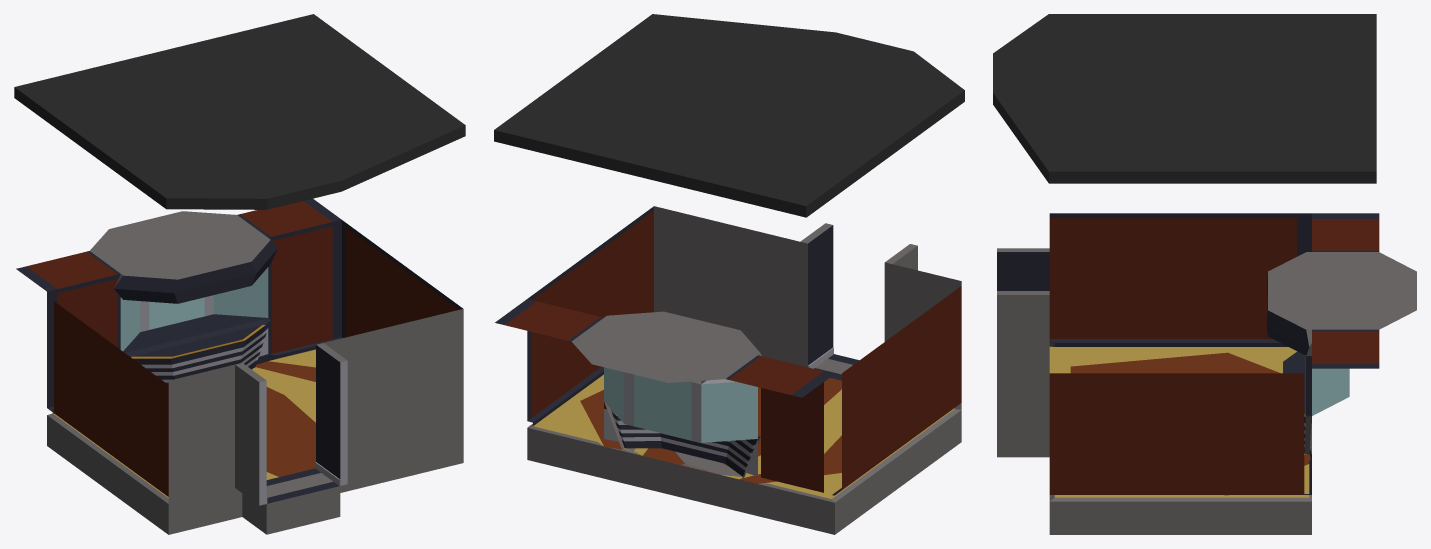
Rendered from lobbyAndLobbyCeiling.fbx.
3 renders of one model, left to right at view 1: azimuth 30°, elevation 25°; view 2: azimuth 150°, elevation 25°; view 3: azimuth 270°, elevation 25°, orthographic. The views are drawn at different scales.
Parts seen in each view (by area): view 1: lobby, lobbyCeiling; view 2: lobby, lobbyCeiling; view 3: lobby, lobbyCeiling.
Boxes of the visible parts, x1=… form: lobby: x1=16, y1=198, x2=463, y2=534; lobbyCeiling: x1=14, y1=14, x2=465, y2=209; lobby: x1=495, y1=206, x2=961, y2=534; lobbyCeiling: x1=494, y1=14, x2=964, y2=217; lobby: x1=997, y1=213, x2=1416, y2=534; lobbyCeiling: x1=993, y1=14, x2=1376, y2=183.
Size of the model in its own units: 711 by 766 by 808.
